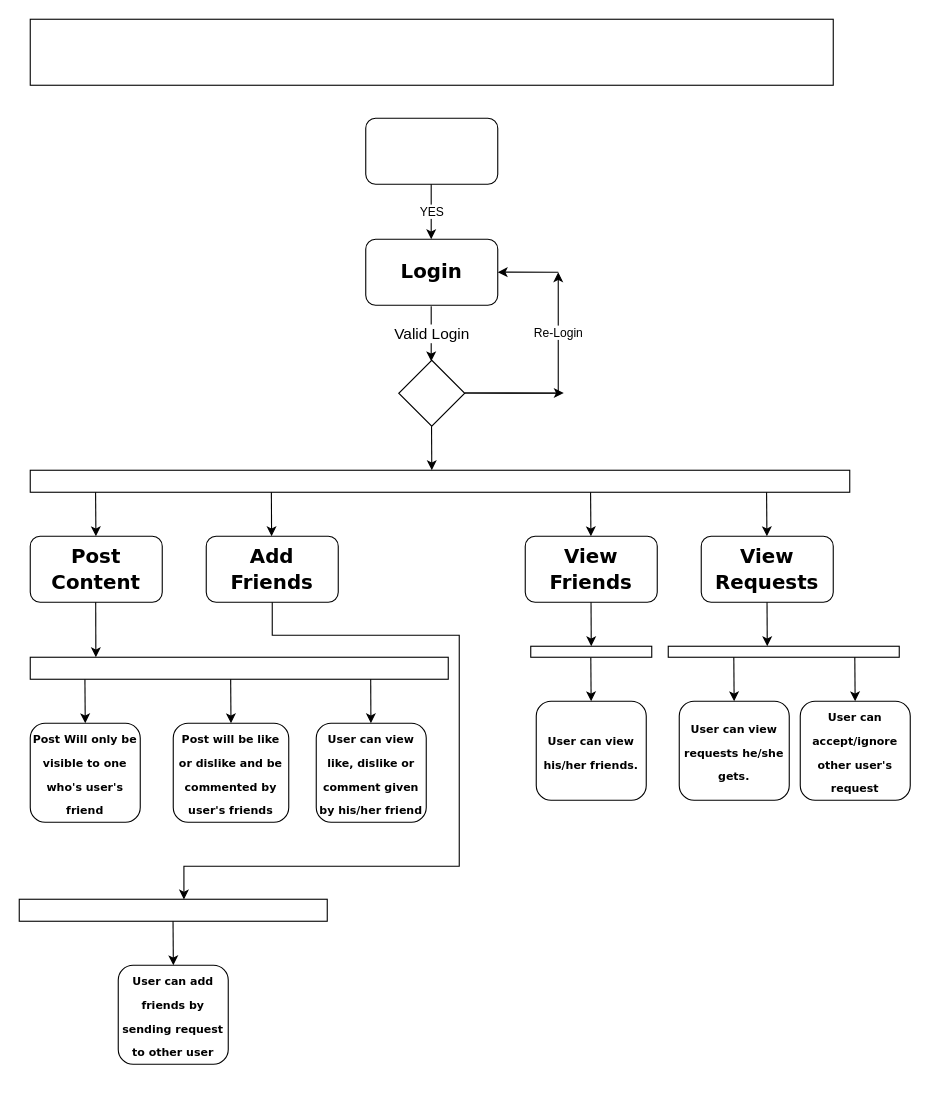
The diagram is 930 pixels wide and 1098 high, and some of its shapes have lost their labels. The shapes that lost their labels are listed below. From the top down, each one's centre as x and y in pixels, then its label:
point (431, 51): Activity Diagram For Wall Application in PHP
point (431, 150): Sign Up
